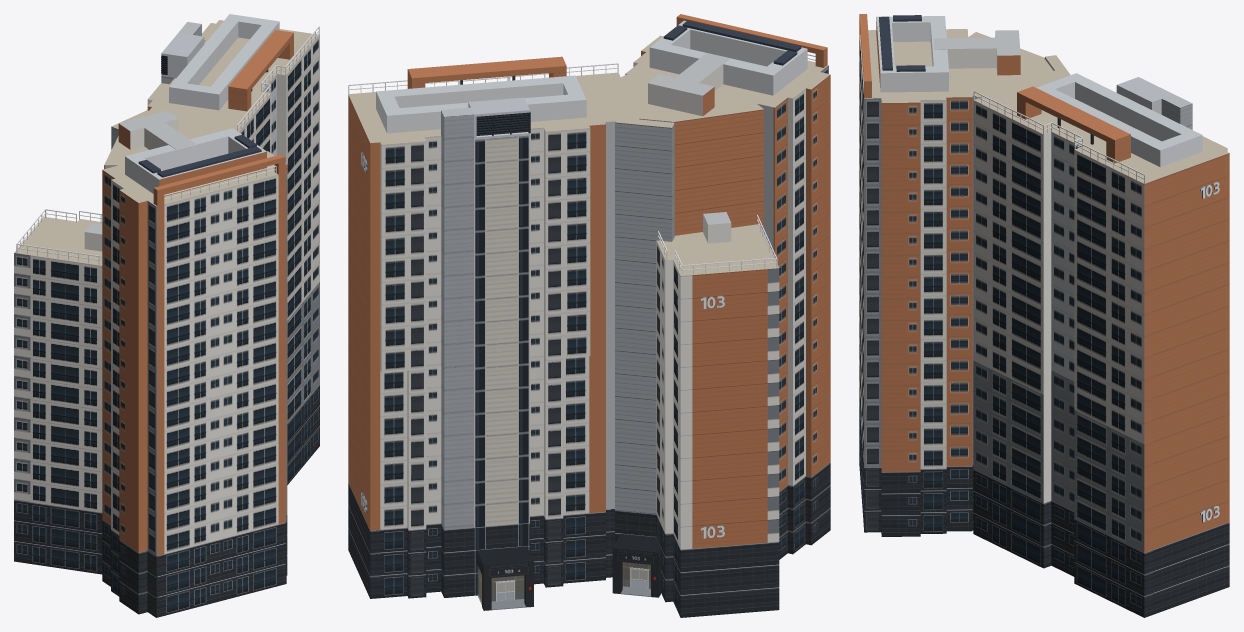
Rendered from place_금파힐103up.glb.
The picture shows the model from 3 angles, left to right: view 1: azimuth 30°, elevation 25°; view 2: azimuth 150°, elevation 25°; view 3: azimuth 270°, elevation 25°; orthographic projection. The views are drawn at different scales.
Visible parts, largest first — view 1: WingC_South_20F, WingB_NW_15F, WingA_NE_20F, KumhoParkHills_103_GroundUp; view 2: WingA_NE_20F, WingB_NW_15F, WingC_South_20F, KumhoParkHills_103_GroundUp; view 3: WingA_NE_20F, WingC_South_20F, KumhoParkHills_103_GroundUp.
Boxes of the visible parts, <box> form: WingC_South_20F: <box>102,111,287,617</box>; WingB_NW_15F: <box>14,209,102,574</box>; WingA_NE_20F: <box>144,14,319,484</box>; KumhoParkHills_103_GroundUp: <box>104,110,219,168</box>; WingA_NE_20F: <box>348,56,639,610</box>; WingB_NW_15F: <box>656,212,779,617</box>; WingC_South_20F: <box>625,14,830,559</box>; KumhoParkHills_103_GroundUp: <box>612,68,763,597</box>; WingA_NE_20F: <box>973,70,1229,617</box>; WingC_South_20F: <box>859,14,1020,536</box>; KumhoParkHills_103_GroundUp: <box>968,32,1070,529</box>.
Size of the model in its own units: 46.86 by 55.95 by 40.99.
147 materials, 87 textured.
